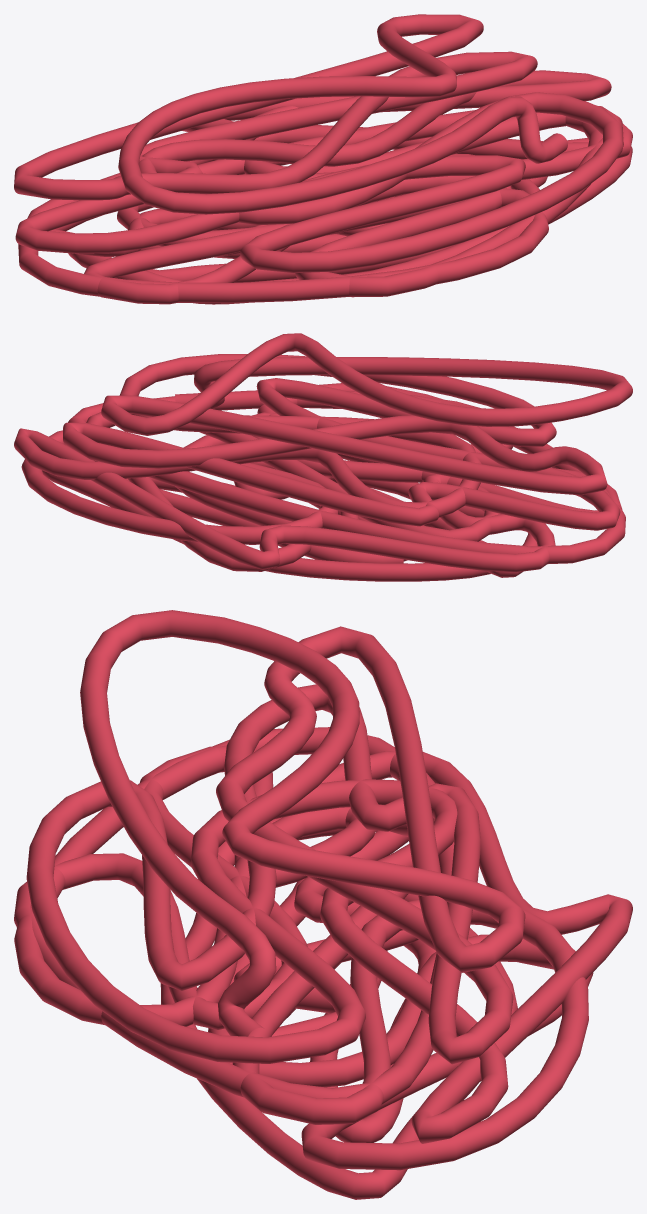
File: Plamídio.glb
3 views of the same model, one above another, from view 1: azimuth 30°, elevation 25°; view 2: azimuth 150°, elevation 25°; view 3: azimuth 270°, elevation 25° (orthographic). The views are drawn at different scales.
Parts seen in each view (by area): view 1: Plasmídeio; view 2: Plasmídeio; view 3: Plasmídeio.
Part boxes in pixels (x1,y1,x2,y2): Plasmídeio: (14, 14, 632, 304); Plasmídeio: (14, 333, 632, 581); Plasmídeio: (14, 610, 632, 1199).
Bounding box in the file's own units: 1.09 × 0.2872 × 0.7011.
